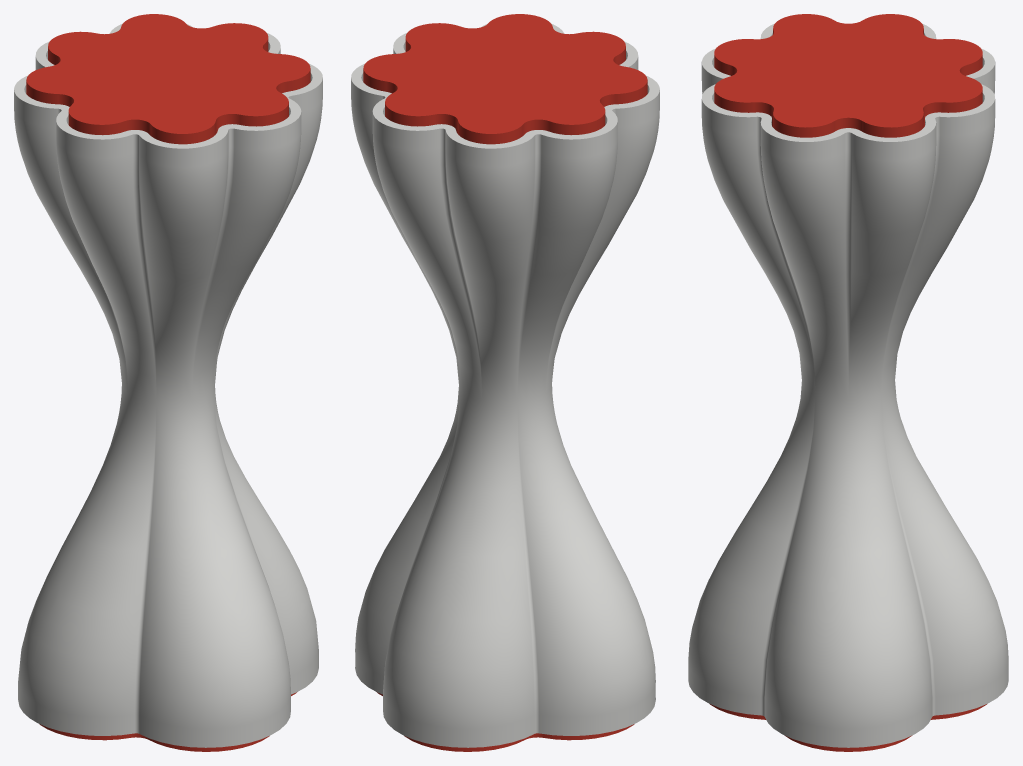
The model's file is HOUR-GLASS-CIRCLE-25.fbx.
3 views of the same model, side by side, from view 1: azimuth 30°, elevation 25°; view 2: azimuth 150°, elevation 25°; view 3: azimuth 270°, elevation 25° (orthographic).
Parts seen in each view (by area): view 1: Body2, Body4, Body3; view 2: Body2, Body4, Body3; view 3: Body2, Body4, Body3.
Boxes of the visible parts, box(x1,y1,x2,y2) form: Body2: box(14, 23, 322, 747); Body4: box(26, 14, 310, 144); Body3: box(39, 692, 296, 751); Body2: box(351, 23, 659, 747); Body4: box(363, 14, 647, 144); Body3: box(377, 692, 634, 751); Body2: box(688, 24, 1008, 747); Body4: box(714, 14, 982, 137); Body3: box(710, 704, 986, 751).
Size of the model in its own units: 31 by 66 by 31.
